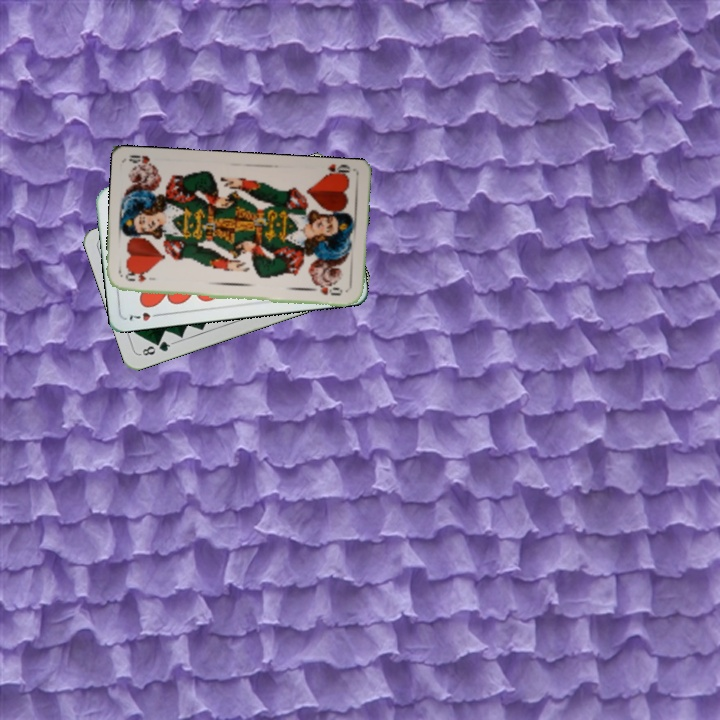G8: (136, 337, 176, 358)
H7: (125, 308, 164, 324)
HO: (317, 161, 352, 182), (121, 270, 158, 285)
